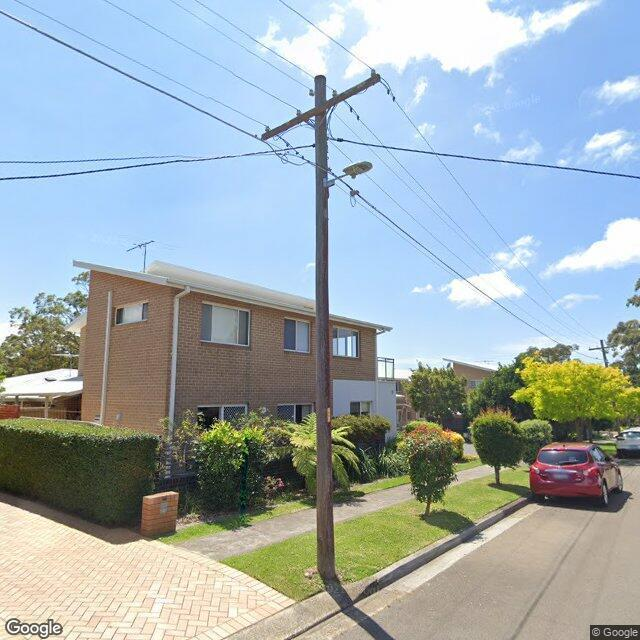crossarm: (260, 72, 382, 142), (589, 346, 614, 350)
streetlight: (323, 160, 374, 190)
timber-pole: (314, 75, 335, 580), (600, 339, 621, 434)
